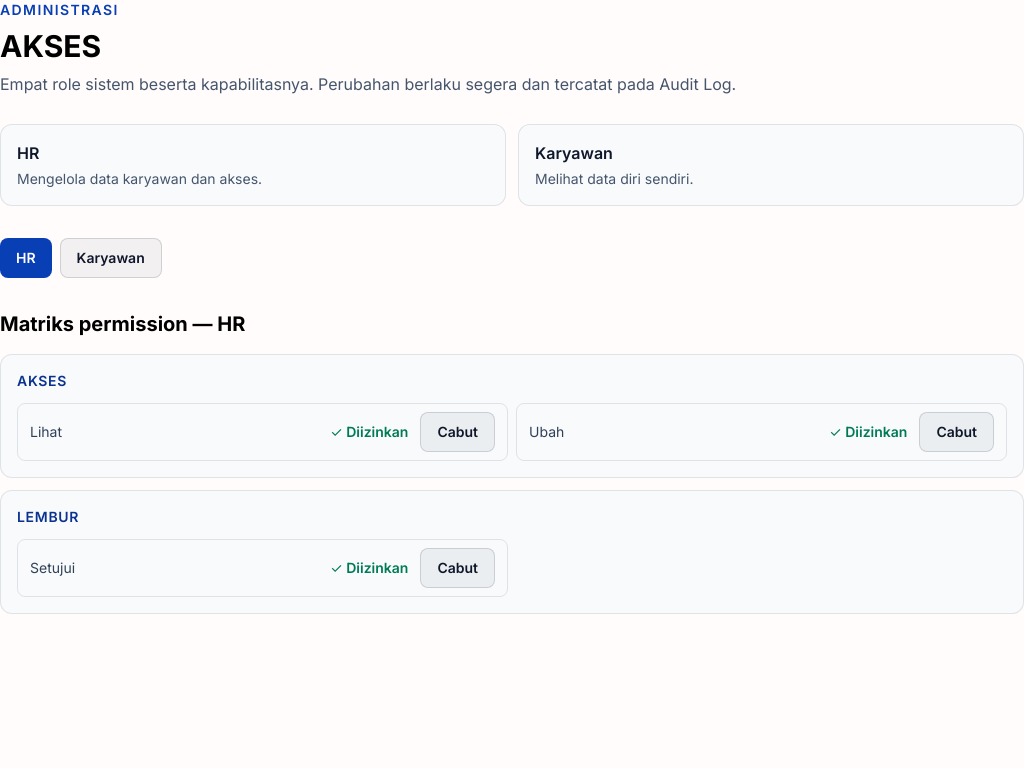
Test: AccessPage › explains an invariant violation from the server
Click the 1st button "Cabut".
click(458, 432)  # box 420,412 -> 495,452
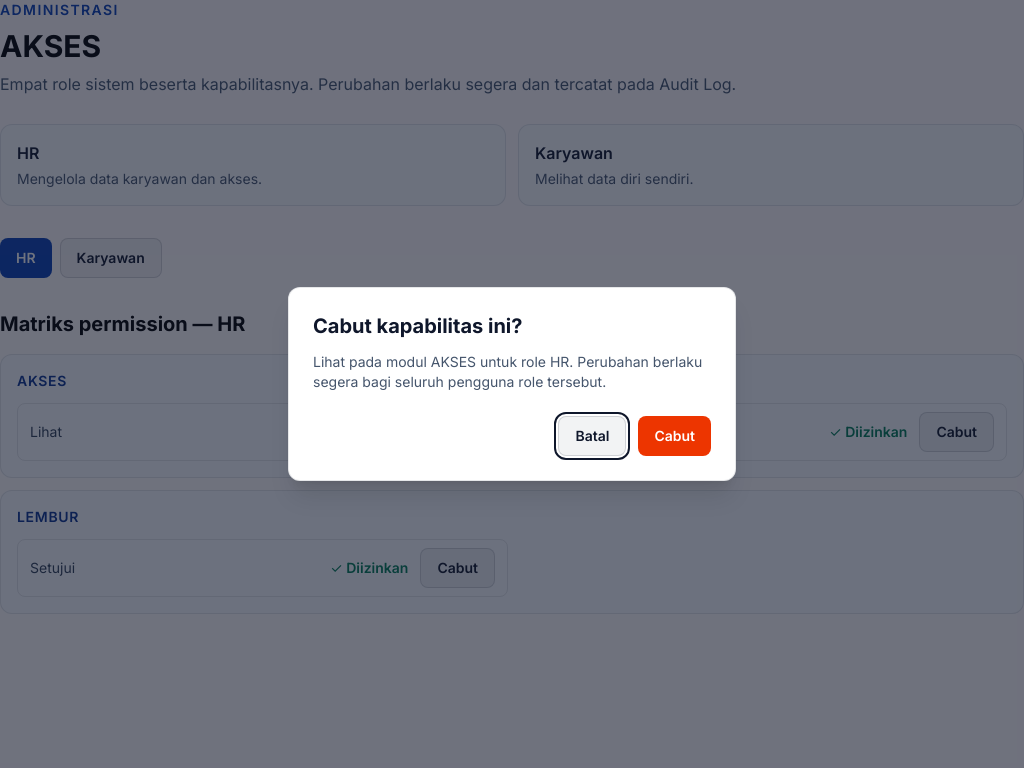
Click the button "Cabut".
click(675, 436)  # box 638,416 -> 711,456
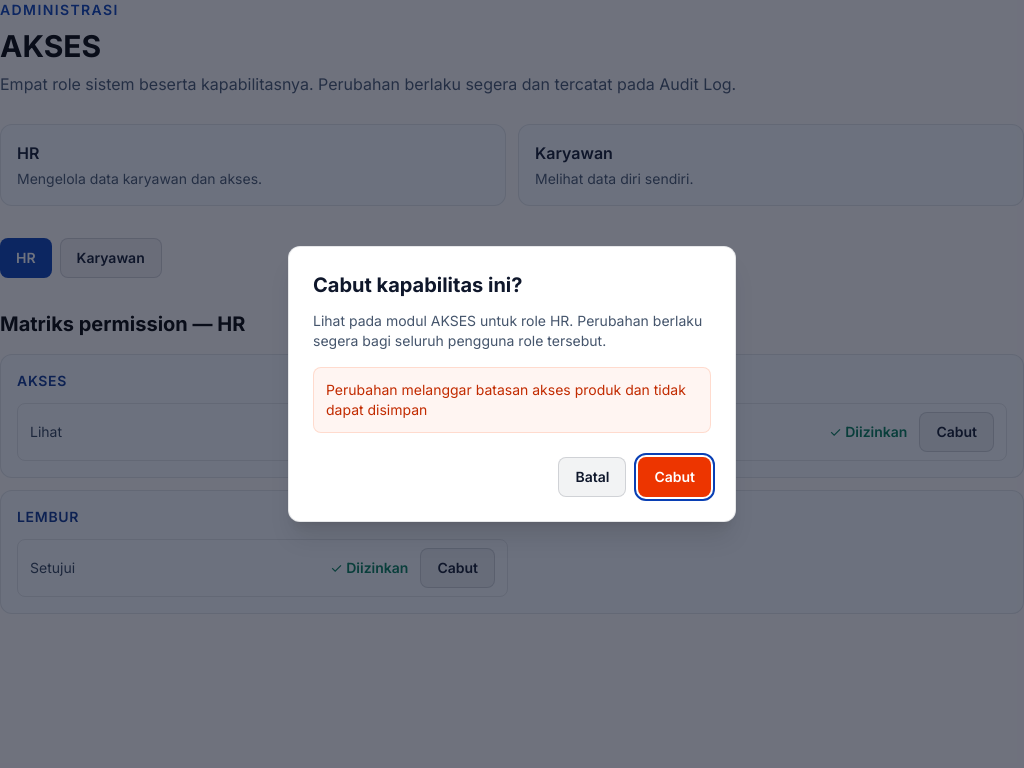
Now the dialog is shown, box 288,246 -> 736,522
Now the text "Perubahan melanggar batasan akses produk dan tidak dapat disimpan" is shown, box 313,367 -> 711,433
